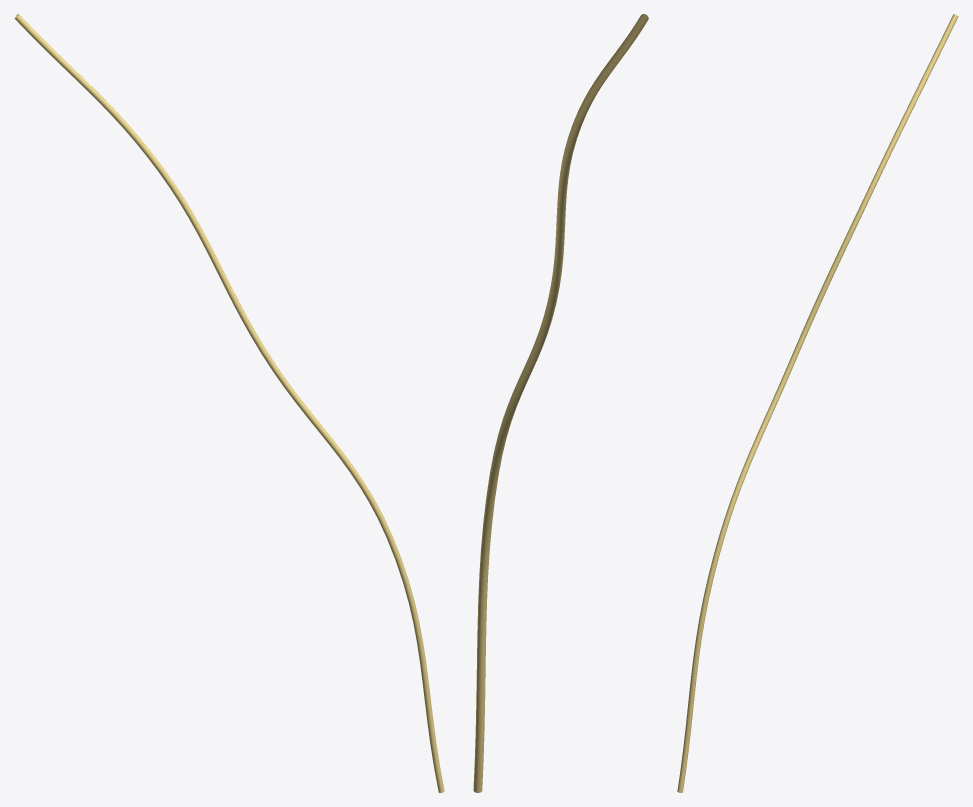
3 renders of one model, left to right at view 1: azimuth 30°, elevation 25°; view 2: azimuth 150°, elevation 25°; view 3: azimuth 270°, elevation 25°, orthographic. The views are drawn at different scales.
Parts seen in each view (by area): view 1: ZA_546fdb01b0eb5bbc; view 2: ZA_546fdb01b0eb5bbc; view 3: ZA_546fdb01b0eb5bbc.
Boxes of the visible parts, <box> form: ZA_546fdb01b0eb5bbc: <box>14,14,444,792</box>; ZA_546fdb01b0eb5bbc: <box>473,14,648,792</box>; ZA_546fdb01b0eb5bbc: <box>677,14,958,792</box>.
Size of the model in its own units: 0.0502 by 0.1267 by 0.049.
